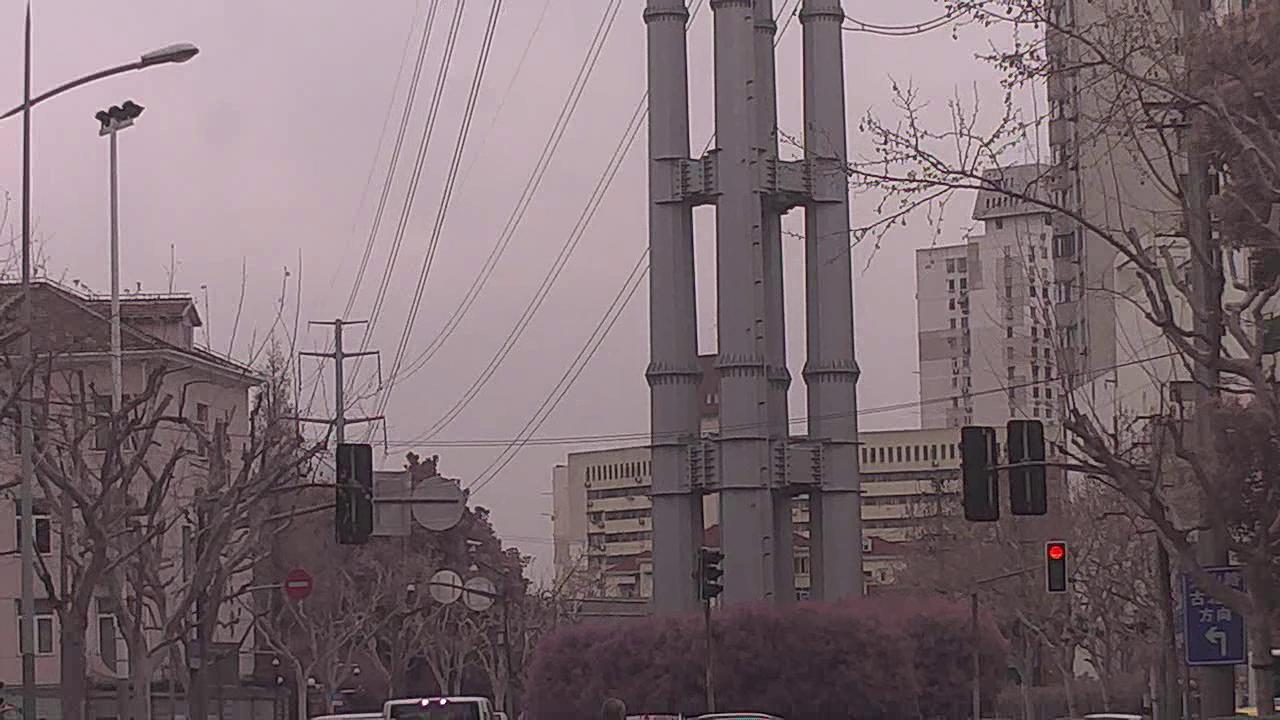traffic_light: (1048, 541, 1070, 592)
